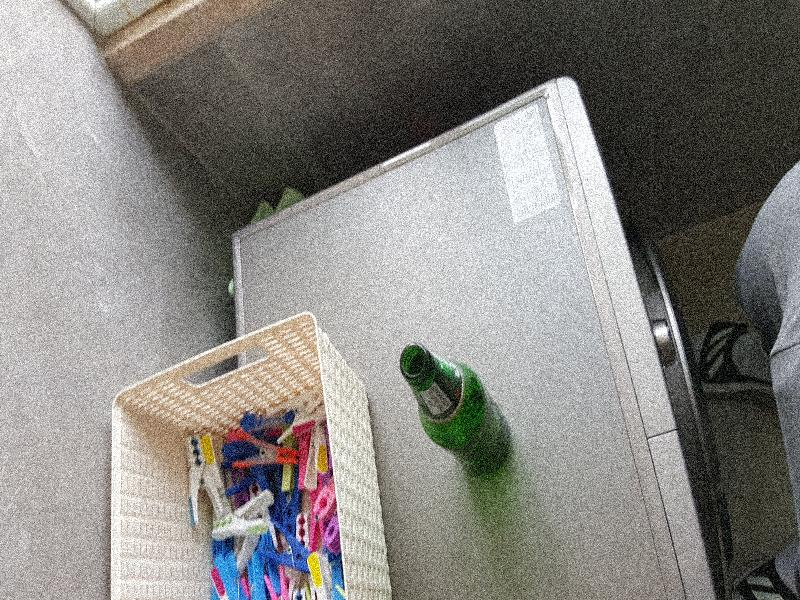Beer: (401, 341, 512, 474)
